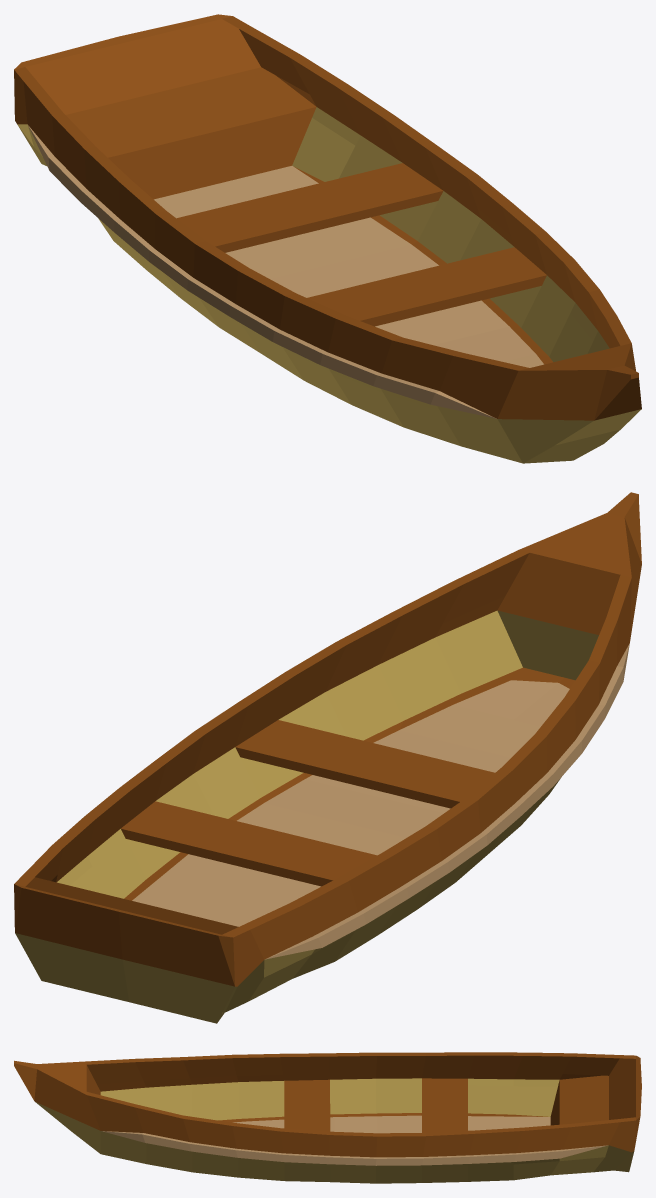
File: Boat.gltf
3 views of the same model, one above another, from view 1: azimuth 30°, elevation 25°; view 2: azimuth 150°, elevation 25°; view 3: azimuth 270°, elevation 25° (orthographic). The views are drawn at different scales.
Parts seen in each view (by area): view 1: Boat; view 2: Boat; view 3: Boat.
Boxes of the visible parts, x1,y1,x2,y2 form: Boat: [14, 14, 641, 463]; Boat: [14, 492, 641, 1023]; Boat: [14, 1052, 641, 1183].
Size of the model in its own units: 2.77 by 1.27 by 8.24.
